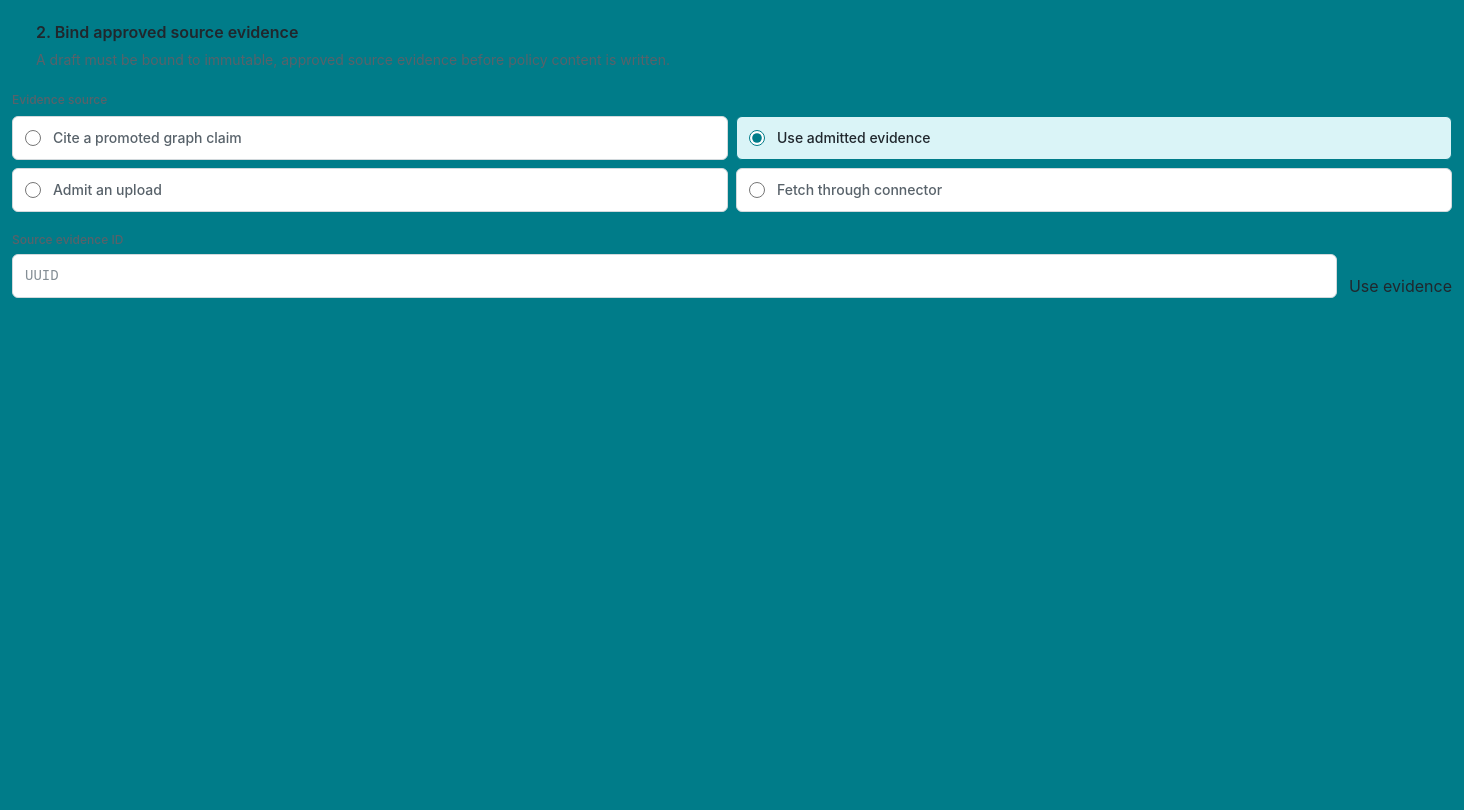
Test: ArcSourceEvidenceSection › requires the promoted claim's own fields before submitting
The width and height of the screenshot is (1464, 810).
Click the radio button labelled "Cite a promoted graph claim".
click(33, 138)  # box [25,130,41,146]
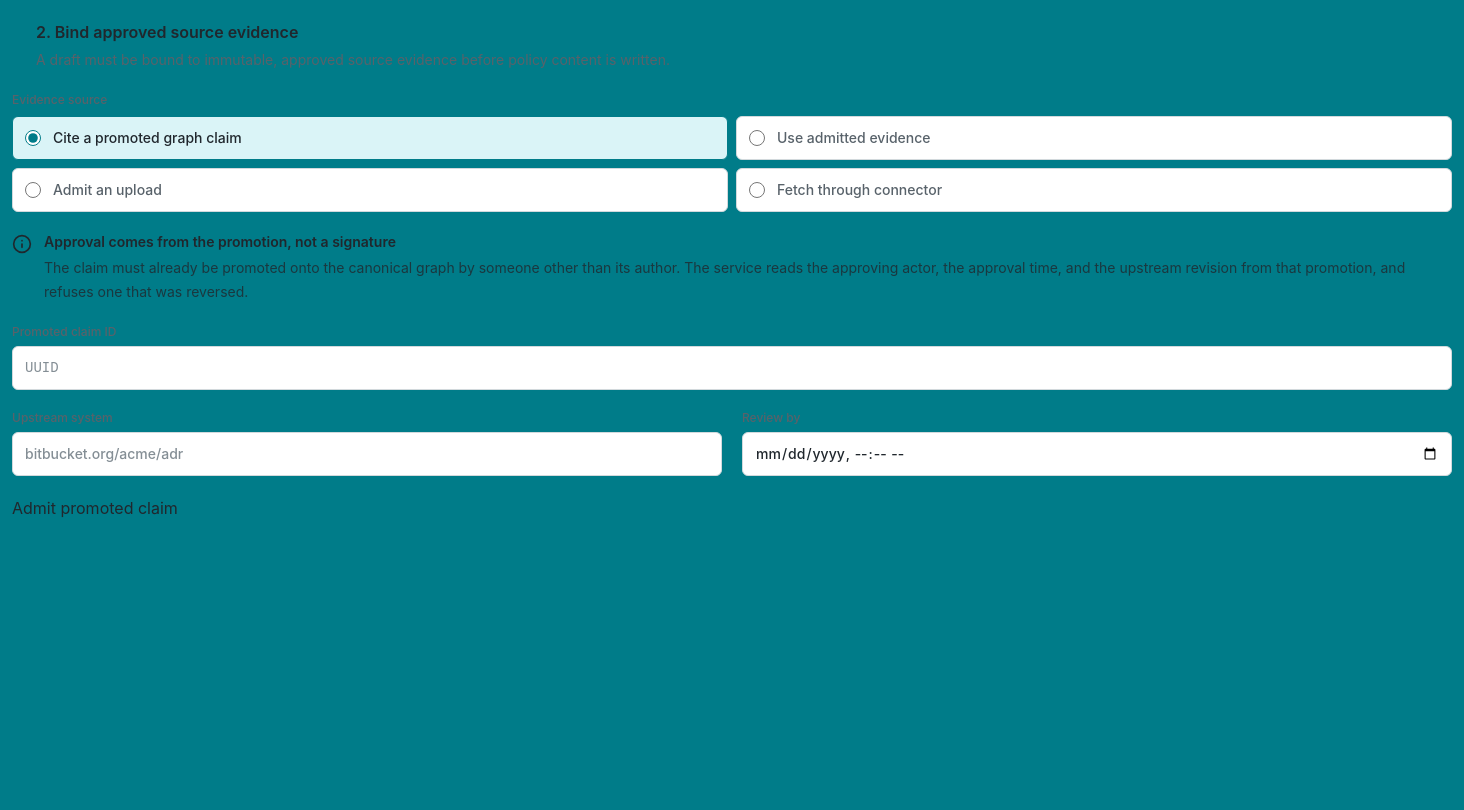
Click the button "Admit promoted claim".
click(95, 508)  # box [12,496,178,520]
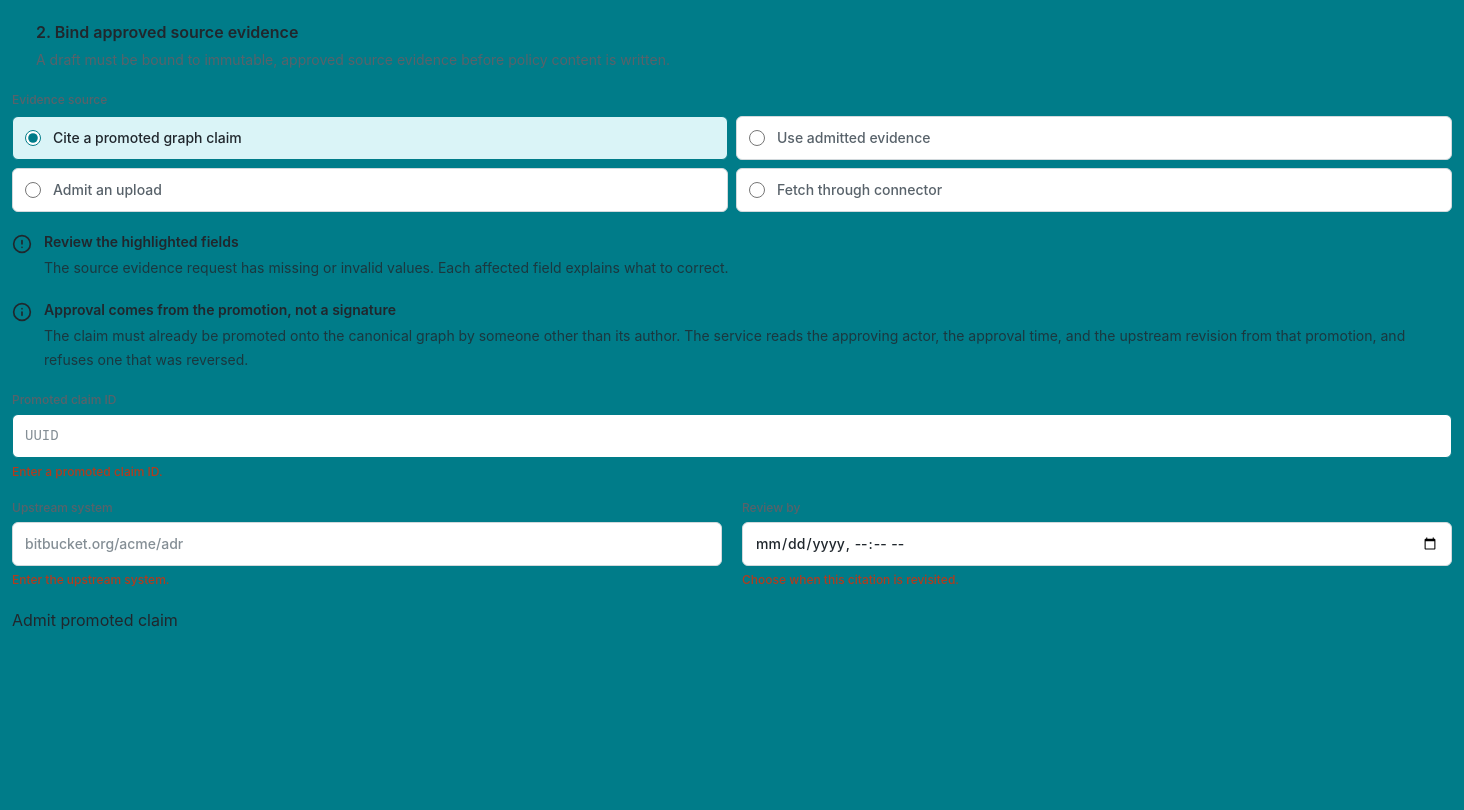
Expected: the text "Enter a promoted claim ID." is shown, [12,464,163,479]
Expected: the text "Enter the upstream system." is shown, [12,572,170,587]
